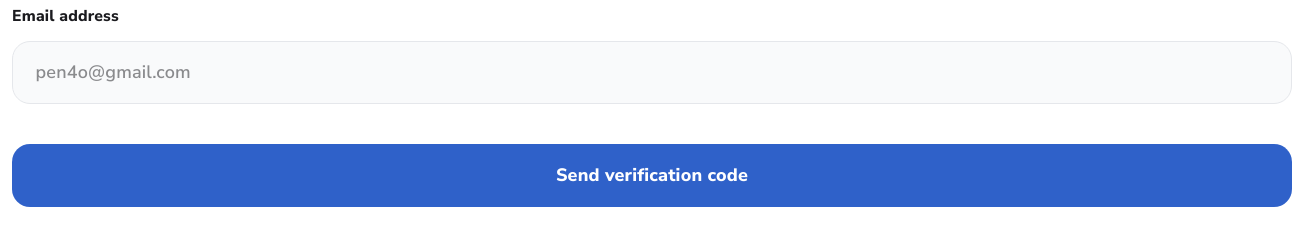
Test case: RequestCodeStep › shows required error for empty email
This screenshot has width=1304, height=251.
Click the button "Send verification code".
click(652, 176)  # box [12,144,1292,207]
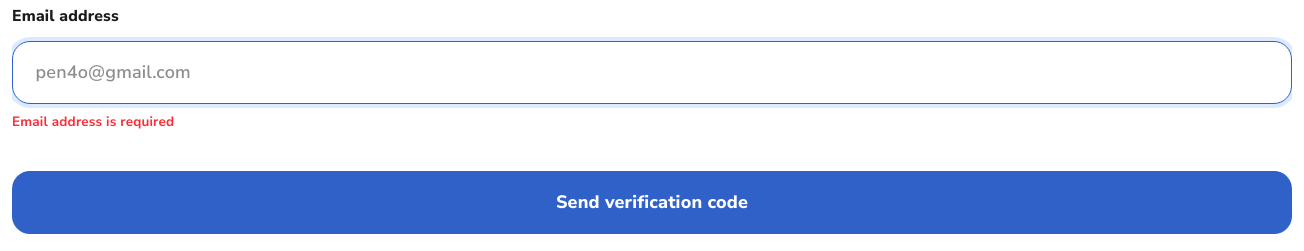
Check: the text "Email address is required" is shown, box [12,112,174,130]
